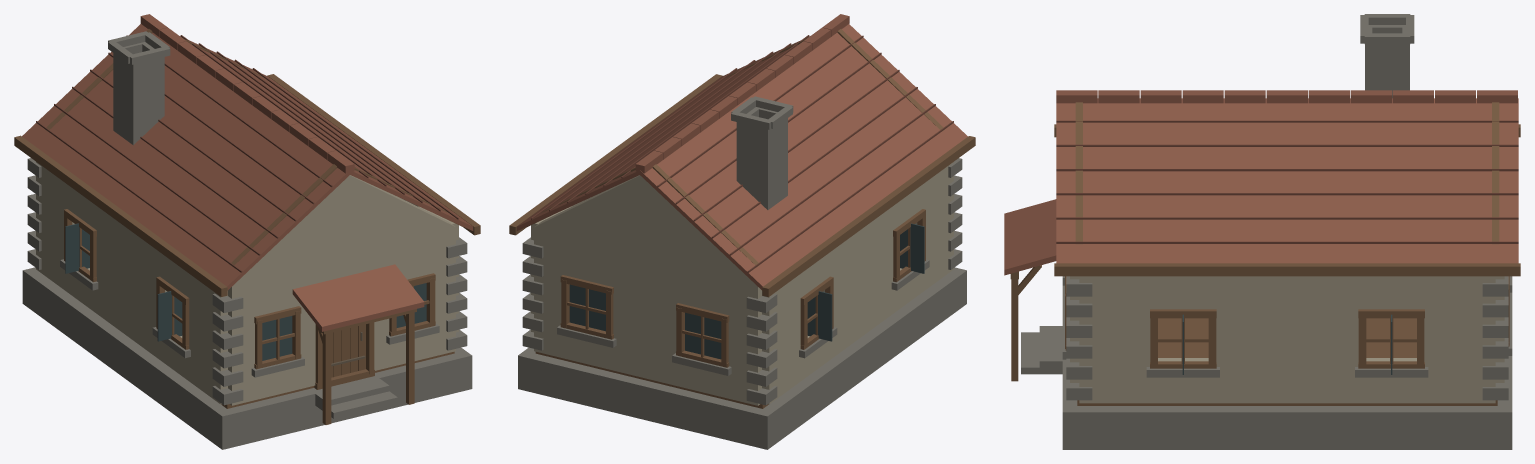
Rendered from keeper_house.glb.
3 views of the same model, side by side, from view 1: azimuth 30°, elevation 25°; view 2: azimuth 150°, elevation 25°; view 3: azimuth 270°, elevation 25° (orthographic). The views are drawn at different scales.
Visible parts, largest first — view 1: keeper_house_Keeper terracotta tile, keeper_house_Keeper lime plaster, keeper_house_Keeper sandstone foundations, keeper_house_Keeper weathered oak, keeper_house_Keeper darker roof seams, keeper_house_Keeper window glass; view 2: keeper_house_Keeper lime plaster, keeper_house_Keeper terracotta tile, keeper_house_Keeper sandstone foundations, keeper_house_Keeper weathered oak, keeper_house_Keeper darker roof seams, keeper_house_Keeper window glass; view 3: keeper_house_Keeper terracotta tile, keeper_house_Keeper lime plaster, keeper_house_Keeper sandstone foundations, keeper_house_Keeper weathered oak, keeper_house_Keeper darker roof seams.
Boxes of the visible parts, x1,y1,x2,y2 form: keeper_house_Keeper terracotta tile: (22, 14, 473, 331); keeper_house_Keeper lime plaster: (36, 162, 458, 405); keeper_house_Keeper sandstone foundations: (22, 31, 472, 449); keeper_house_Keeper weathered oak: (14, 29, 480, 424); keeper_house_Keeper darker roof seams: (36, 35, 458, 272); keeper_house_Keeper window glass: (65, 223, 426, 360); keeper_house_Keeper lime plaster: (531, 162, 953, 405); keeper_house_Keeper terracotta tile: (516, 14, 967, 290); keeper_house_Keeper sandstone foundations: (518, 96, 966, 449); keeper_house_Keeper weathered oak: (509, 29, 975, 408); keeper_house_Keeper darker roof seams: (531, 35, 953, 272); keeper_house_Keeper window glass: (569, 223, 924, 359); keeper_house_Keeper terracotta tile: (1004, 90, 1518, 275); keeper_house_Keeper lime plaster: (1070, 276, 1504, 403); keeper_house_Keeper sandstone foundations: (1021, 14, 1512, 449); keeper_house_Keeper weathered oak: (1010, 102, 1520, 405); keeper_house_Keeper darker roof seams: (1056, 120, 1518, 243).
Bounding box in the file's own units: 8.48 × 8.5 × 12.4.
